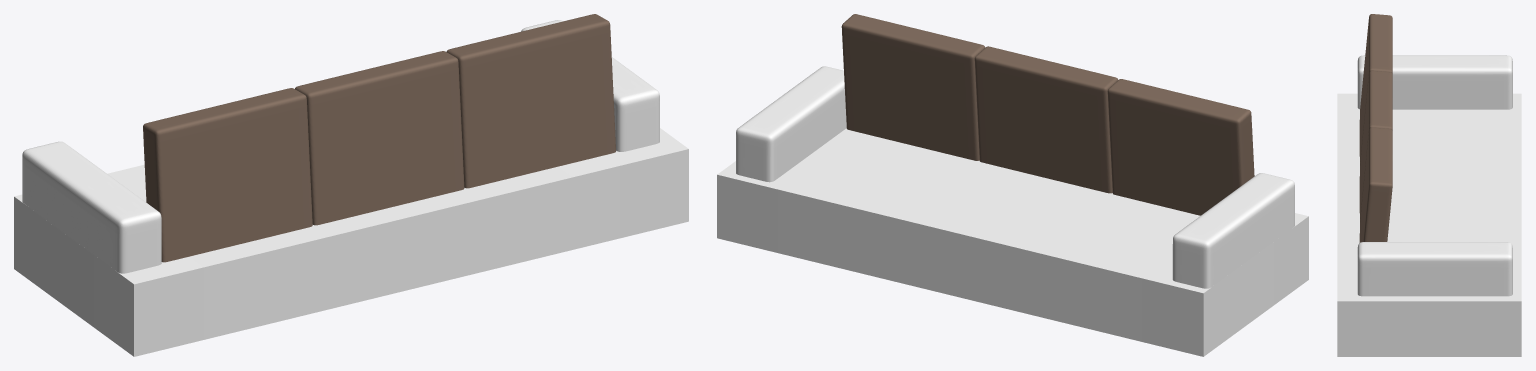
3 views of the same model, side by side, from view 1: azimuth 30°, elevation 25°; view 2: azimuth 150°, elevation 25°; view 3: azimuth 270°, elevation 25° (orthographic). The views are drawn at different scales.
Parts seen in each view (by area): view 1: object 1, MainCouch_BackCushion_1, MainCouch_BackCushion_3, MainCouch_BackCushion_2, MainCouch_Armrest_Left, MainCouch_Armrest_Right; view 2: object 1, MainCouch_BackCushion_2, MainCouch_BackCushion_3, MainCouch_BackCushion_1, MainCouch_Armrest_Left, MainCouch_Armrest_Right; view 3: object 1, MainCouch_Armrest_Right, MainCouch_Armrest_Left, MainCouch_BackCushion_3, MainCouch_BackCushion_2, MainCouch_BackCushion_1.
Boxes of the visible parts, left/top/right/bottom form: object 1: left=14, top=128, right=688, bottom=356; MainCouch_BackCushion_1: left=143, top=88, right=312, bottom=262; MainCouch_BackCushion_3: left=446, top=14, right=615, bottom=188; MainCouch_BackCushion_2: left=295, top=51, right=464, bottom=225; MainCouch_Armrest_Left: left=22, top=141, right=161, bottom=273; MainCouch_Armrest_Right: left=521, top=20, right=659, bottom=151; object 1: left=717, top=128, right=1308, bottom=356; MainCouch_BackCushion_2: left=974, top=46, right=1117, bottom=193; MainCouch_BackCushion_3: left=841, top=14, right=985, bottom=160; MainCouch_BackCushion_1: left=1107, top=79, right=1254, bottom=215; MainCouch_Armrest_Left: left=1172, top=173, right=1294, bottom=288; MainCouch_Armrest_Right: left=736, top=66, right=846, bottom=182; object 1: left=1337, top=93, right=1521, bottom=356; MainCouch_Armrest_Right: left=1357, top=242, right=1512, bottom=296; MainCouch_Armrest_Left: left=1357, top=55, right=1512, bottom=109; MainCouch_BackCushion_3: left=1359, top=127, right=1392, bottom=242; MainCouch_BackCushion_2: left=1359, top=70, right=1392, bottom=221; MainCouch_BackCushion_1: left=1359, top=14, right=1392, bottom=165.
Size of the model in its own units: 5.12 by 1.75 by 1.92.
